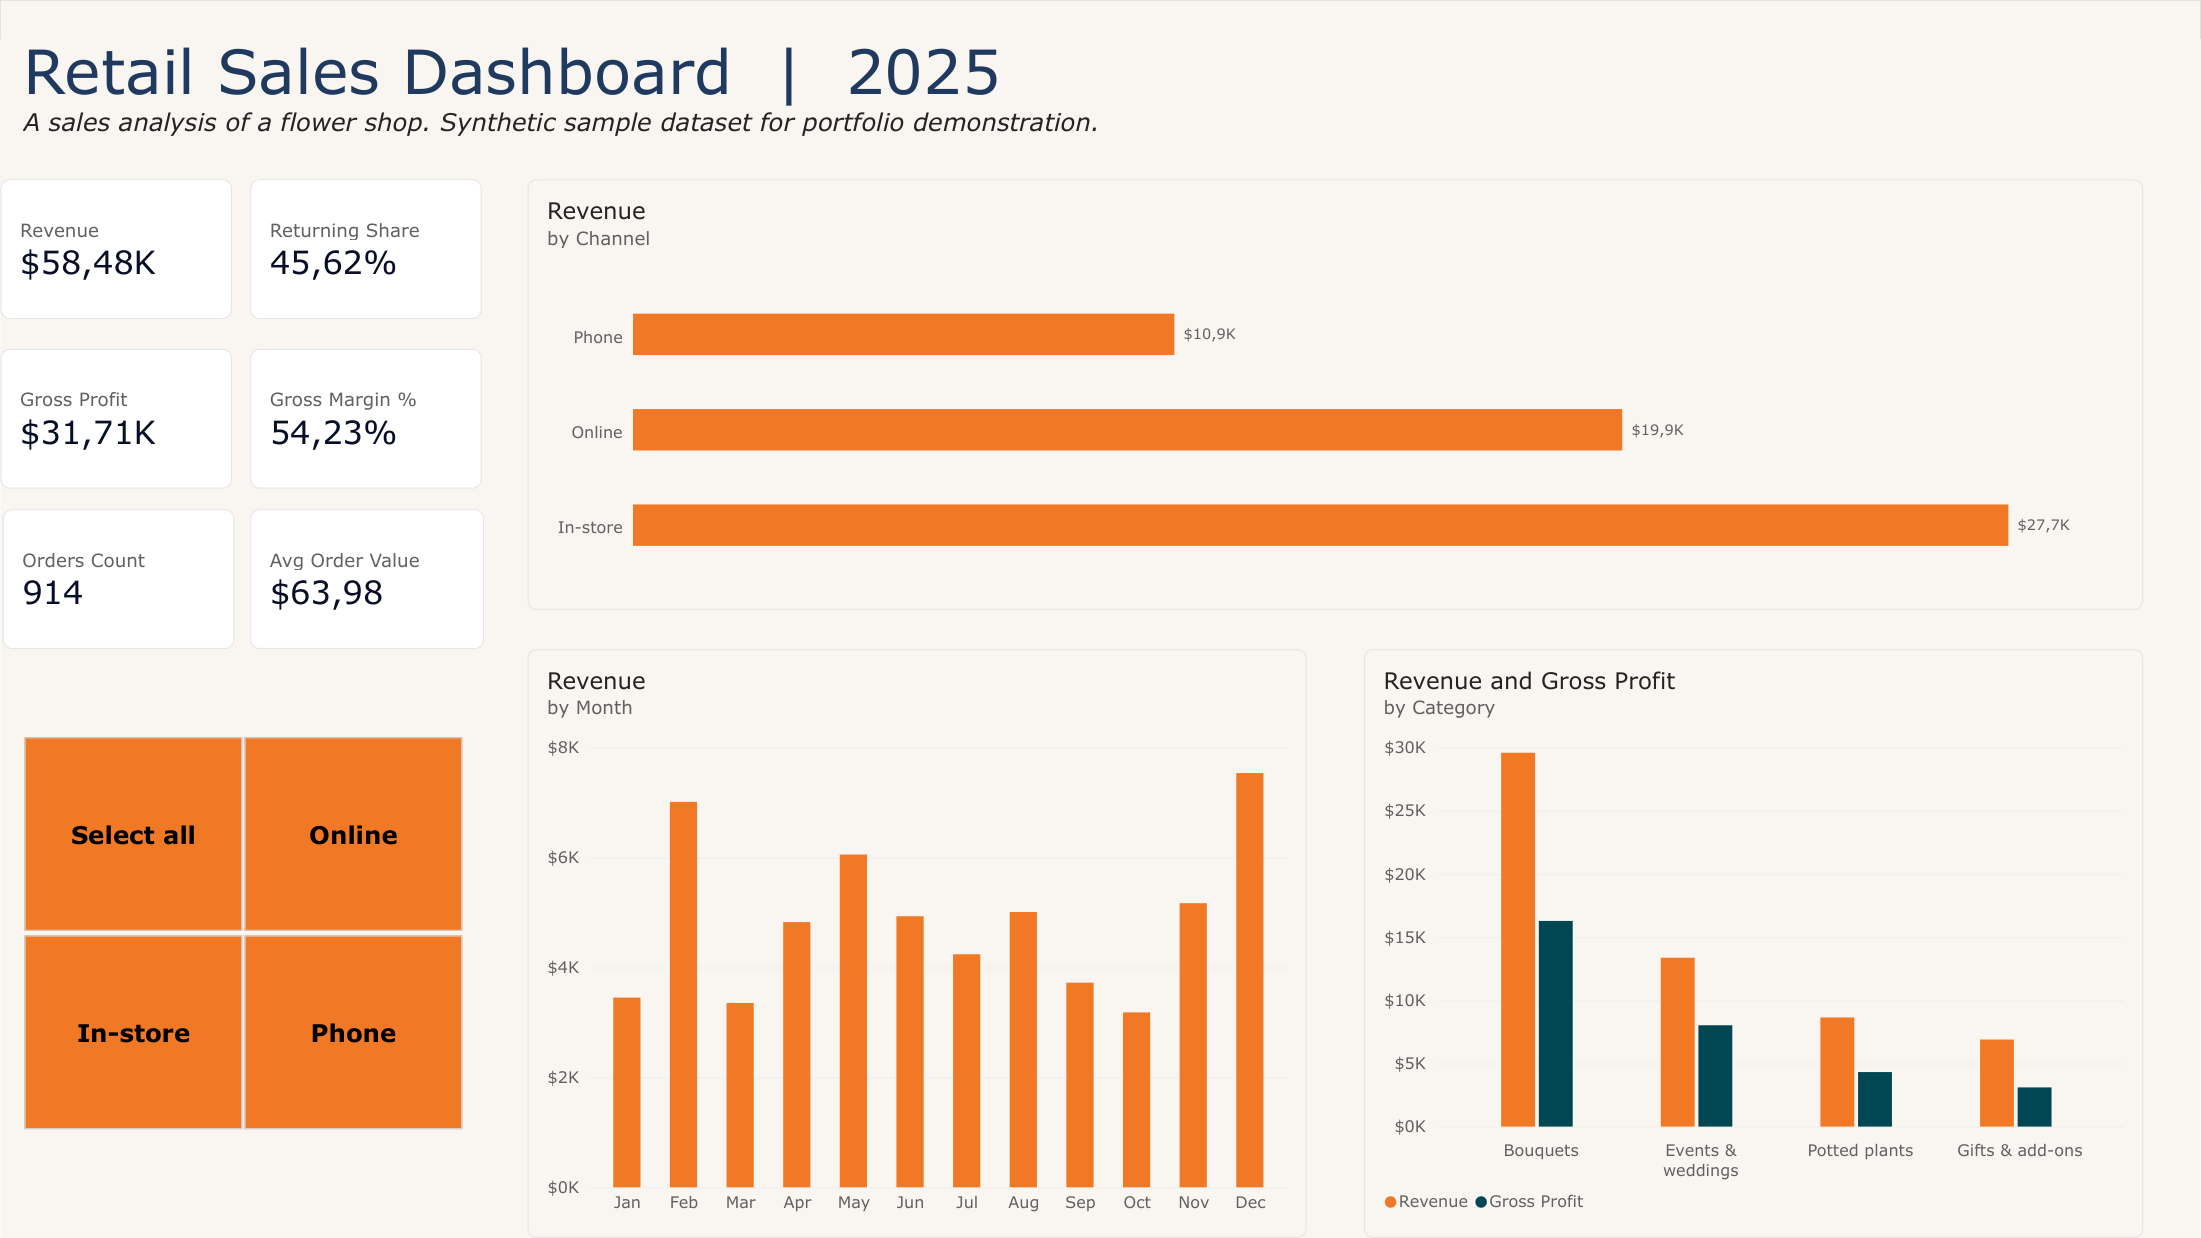

What the dashboard file says about the page in this screenshot:
{"tool":"powerbi","page":{"name":"2025","canvas":[1920,1080],"ordinal":0},"visuals":[{"type":"textbox","box":[20,28,1510,164],"z":0},{"type":"cardVisual","fields":{"Data":["Categories.Revenue"]},"box":[0,156,202,122],"z":1000},{"type":"cardVisual","fields":{"Data":["Categories.Gross Profit"]},"box":[0,304,202,122],"z":2000},{"type":"cardVisual","fields":{"Data":["Categories.Gross Margin %"]},"box":[218,304,202,122],"z":3000},{"type":"cardVisual","fields":{"Data":["Categories.Orders Count"]},"box":[2,444,202,122],"z":4000},{"type":"cardVisual","fields":{"Data":["Categories.Avg Order Value"]},"box":[218,444,204,122],"z":5000},{"type":"cardVisual","fields":{"Data":["Categories.Returning Share"]},"box":[218,156,202,122],"z":6000},{"type":"barChart","fields":{"Category":["Orders.Channel"],"Y":["Categories.Revenue"]},"box":[460,156,1410,376],"z":7000},{"type":"columnChart","fields":{"Category":["Date.Month"],"Y":["Categories.Revenue"]},"box":[460,566,680,514],"z":8000},{"type":"clusteredColumnChart","fields":{"Category":["Orders.Category"],"Y":["Categories.Revenue","Categories.Gross Profit"]},"box":[1190,566,680,514],"z":10000},{"type":"slicer","fields":{"Values":["Orders.Channel"]},"box":[0,624,422,380],"z":11000}]}

Visuals, with their boxes in screenshot pixels (x1, y1, x2, y2), scaled from the page's 1920x1080 canvas onto the 2201x1238 screenshot:
textbox: x1=23 y1=32 x2=1754 y2=220
cardVisual - Categories.Revenue: x1=0 y1=179 x2=232 y2=319
cardVisual - Categories.Gross Profit: x1=0 y1=348 x2=232 y2=488
cardVisual - Categories.Gross Margin %: x1=250 y1=348 x2=481 y2=488
cardVisual - Categories.Orders Count: x1=2 y1=509 x2=234 y2=649
cardVisual - Categories.Avg Order Value: x1=250 y1=509 x2=484 y2=649
cardVisual - Categories.Returning Share: x1=250 y1=179 x2=481 y2=319
barChart - Orders.Channel x Categories.Revenue: x1=527 y1=179 x2=2144 y2=610
columnChart - Date.Month x Categories.Revenue: x1=527 y1=649 x2=1307 y2=1237
clusteredColumnChart - Orders.Category x Categories.Revenue: x1=1364 y1=649 x2=2144 y2=1237
slicer - Orders.Channel: x1=0 y1=715 x2=484 y2=1151
